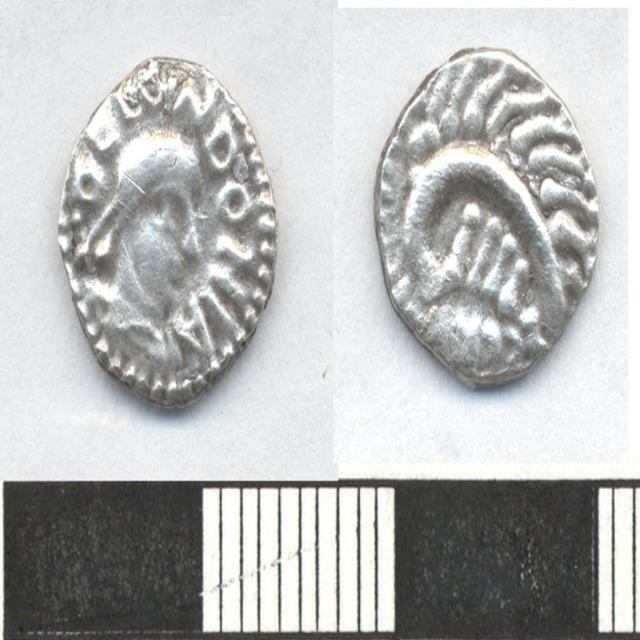Coin: (52, 55, 282, 414), (373, 37, 600, 394)
